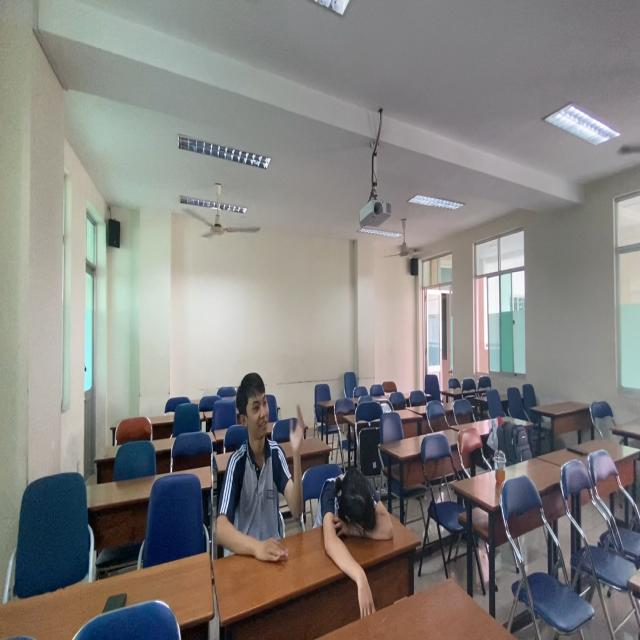raise_hand: (225, 375, 313, 566)
sleep: (318, 456, 399, 560)
